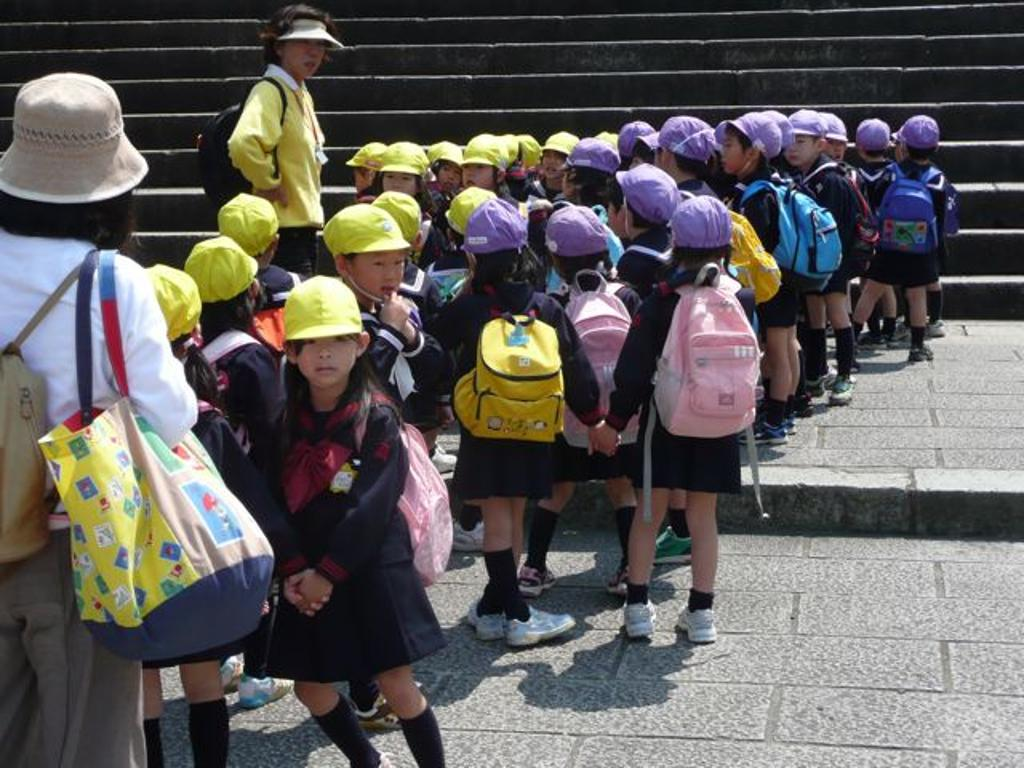face: (294, 323, 358, 386), (346, 245, 403, 302), (282, 29, 325, 78), (384, 164, 418, 203), (783, 129, 816, 167), (562, 162, 588, 207), (464, 158, 497, 193), (722, 138, 750, 173), (629, 153, 653, 189), (609, 200, 634, 233), (544, 146, 569, 178), (821, 133, 845, 165), (440, 159, 462, 191), (656, 148, 676, 181), (354, 167, 375, 198)
